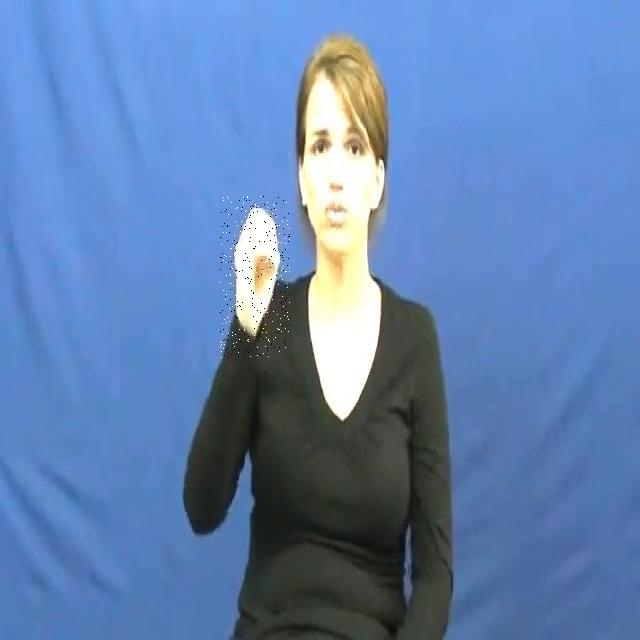lactose: (220, 195, 290, 358)
